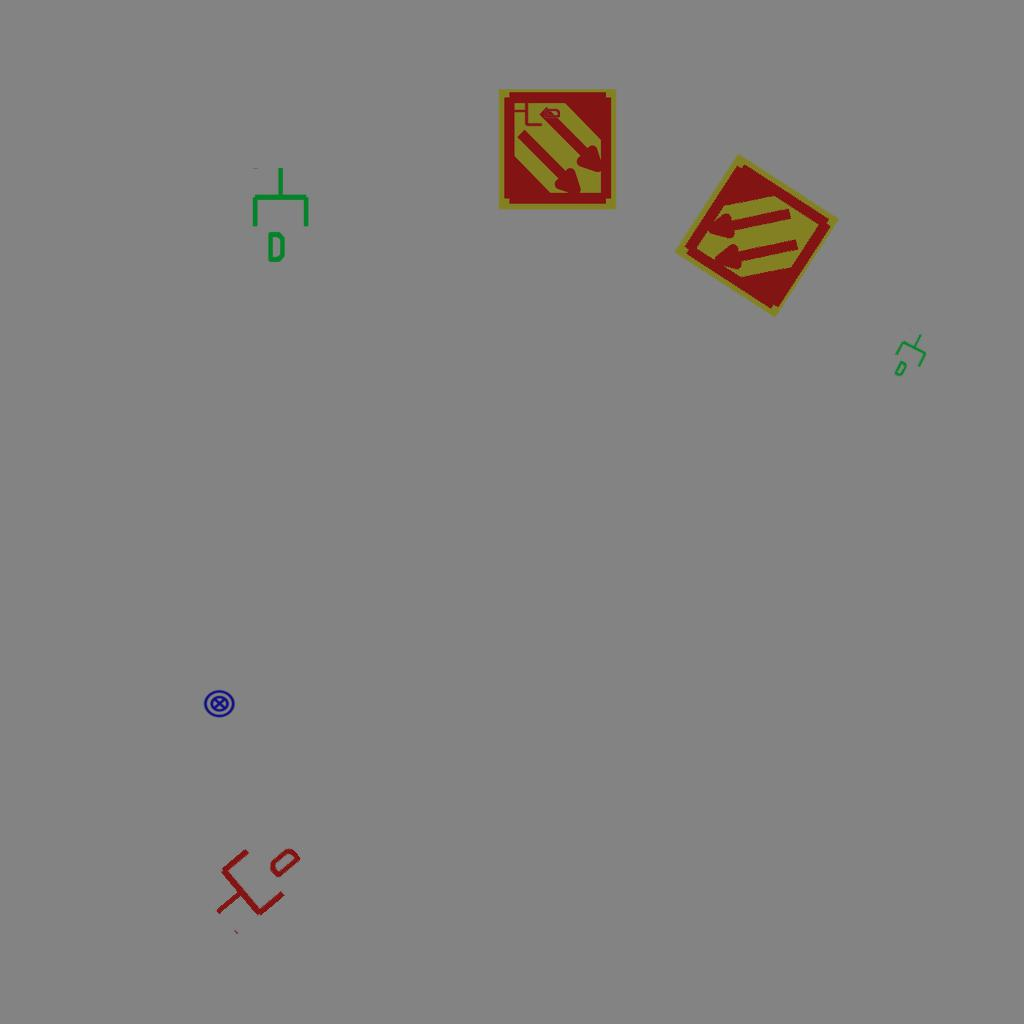ASR_Ansaugrauchmelder: (670, 149, 843, 322), (495, 87, 620, 212)
Datenanschluss_einfach: (194, 822, 315, 940), (248, 165, 317, 265), (884, 326, 938, 386), (510, 94, 560, 128)
Taster_beleuchtet: (203, 687, 236, 720)
